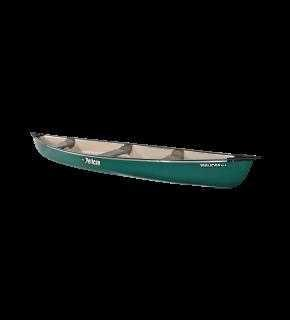kayak: (29, 132, 260, 191)
